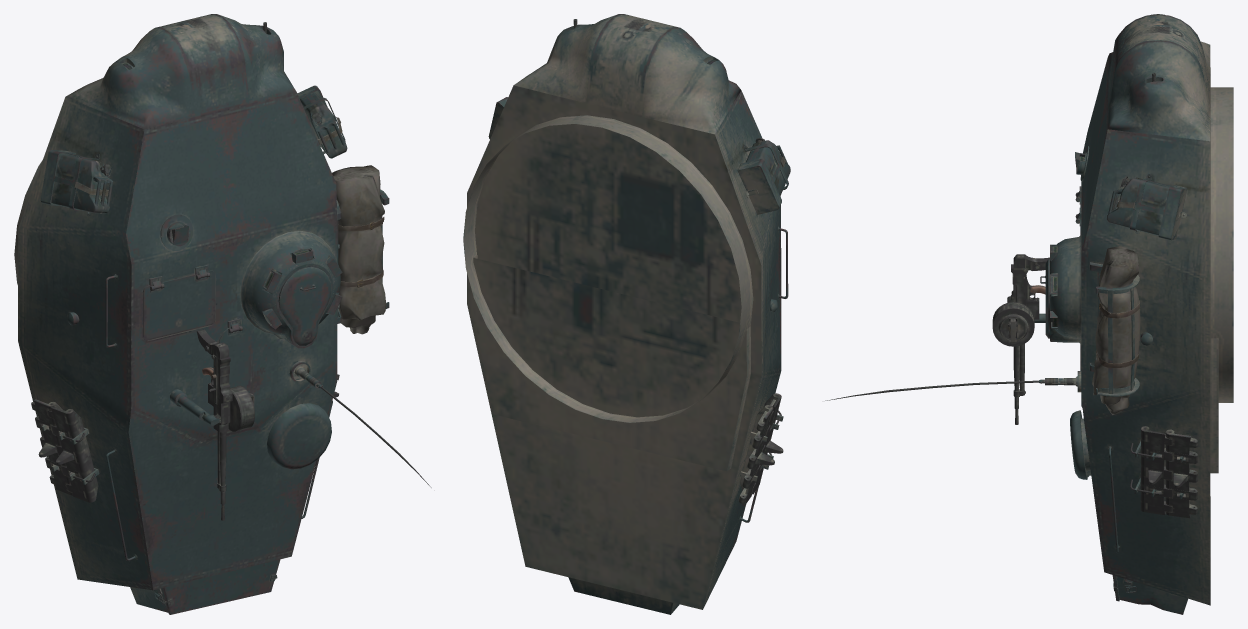
The model's file is Turret_01.glb.
The picture shows the model from 3 angles, left to right: view 1: azimuth 30°, elevation 25°; view 2: azimuth 150°, elevation 25°; view 3: azimuth 270°, elevation 25°; orthographic projection. The views are drawn at different scales.
Parts seen in each view (by area): view 1: set_0_group_0; view 2: set_0_group_0; view 3: set_0_group_0.
Boxes of the visible parts, <box> form: set_0_group_0: <box>14,14,431,614</box>; set_0_group_0: <box>463,14,790,614</box>; set_0_group_0: <box>825,14,1233,614</box>.
Bounding box in the file's own units: 2.47 × 4.35 × 2.91.
1 material, 1 textured.
